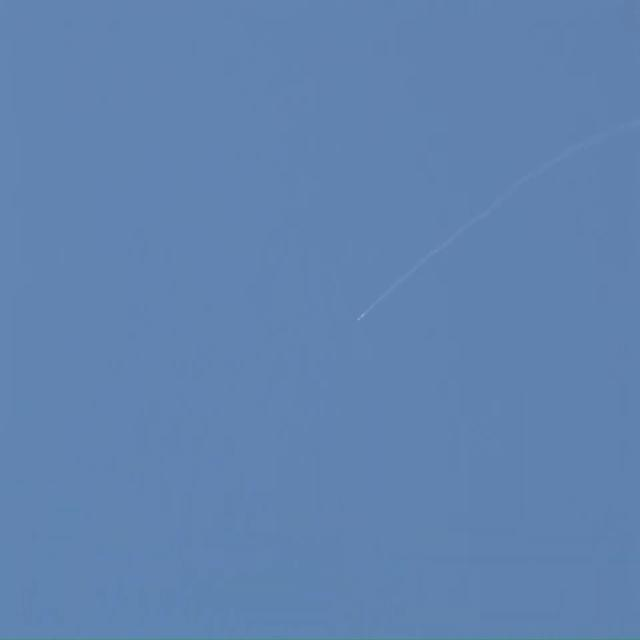Rocket: (357, 312, 364, 322)
